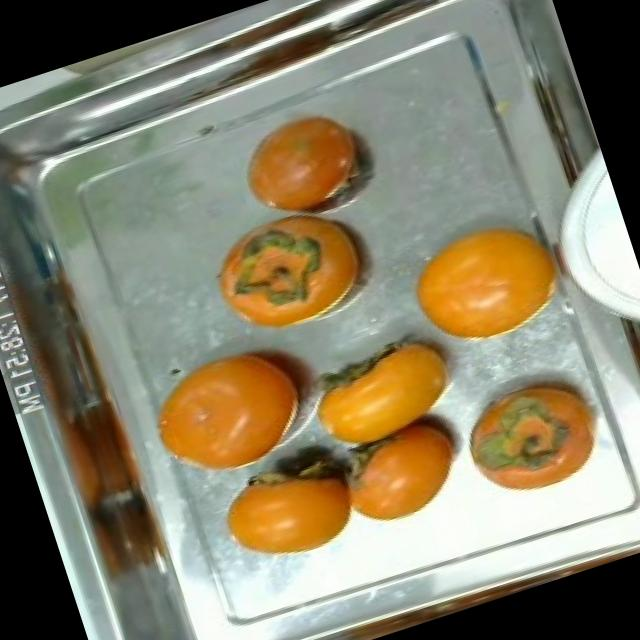Fruit: (119, 317, 340, 504), (379, 190, 591, 381), (438, 352, 629, 520), (281, 314, 483, 469), (202, 439, 378, 584), (224, 90, 396, 236), (194, 208, 338, 350)
